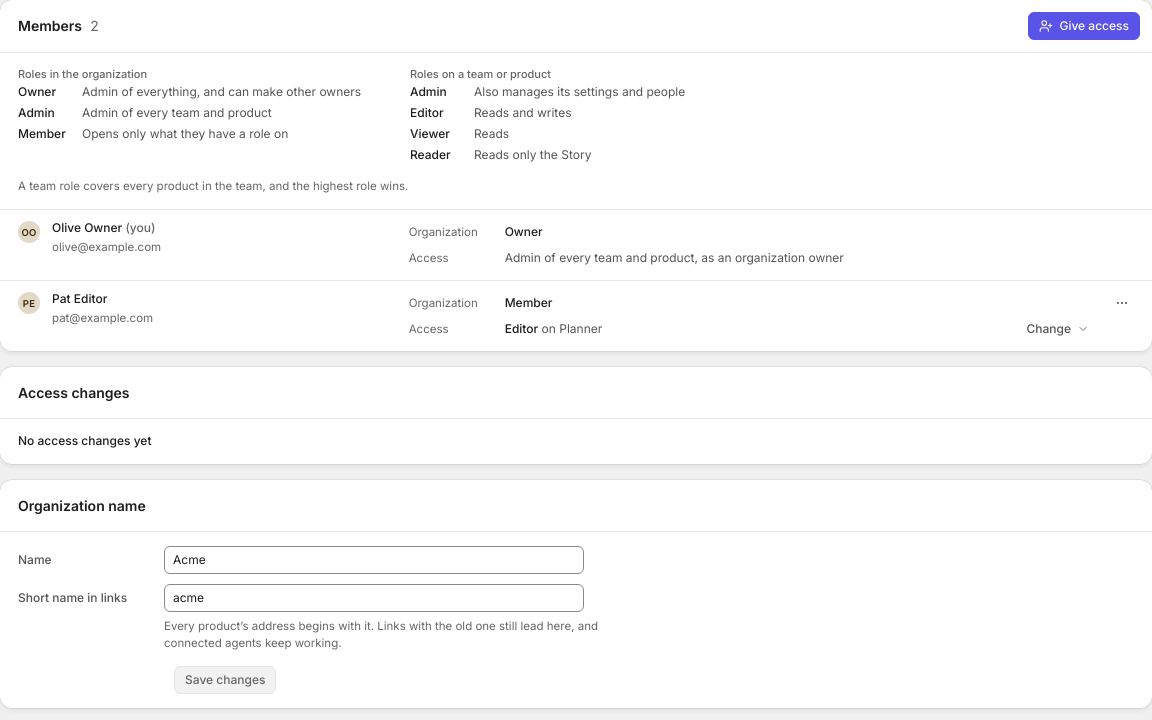
Test: the Members page › asks before removing someone's only role, offering to keep them as a member or to remove them, without saying both happen
The image size is (1152, 720).
Click the button "Change" at (1058, 329), box [1018,317,1098,341]
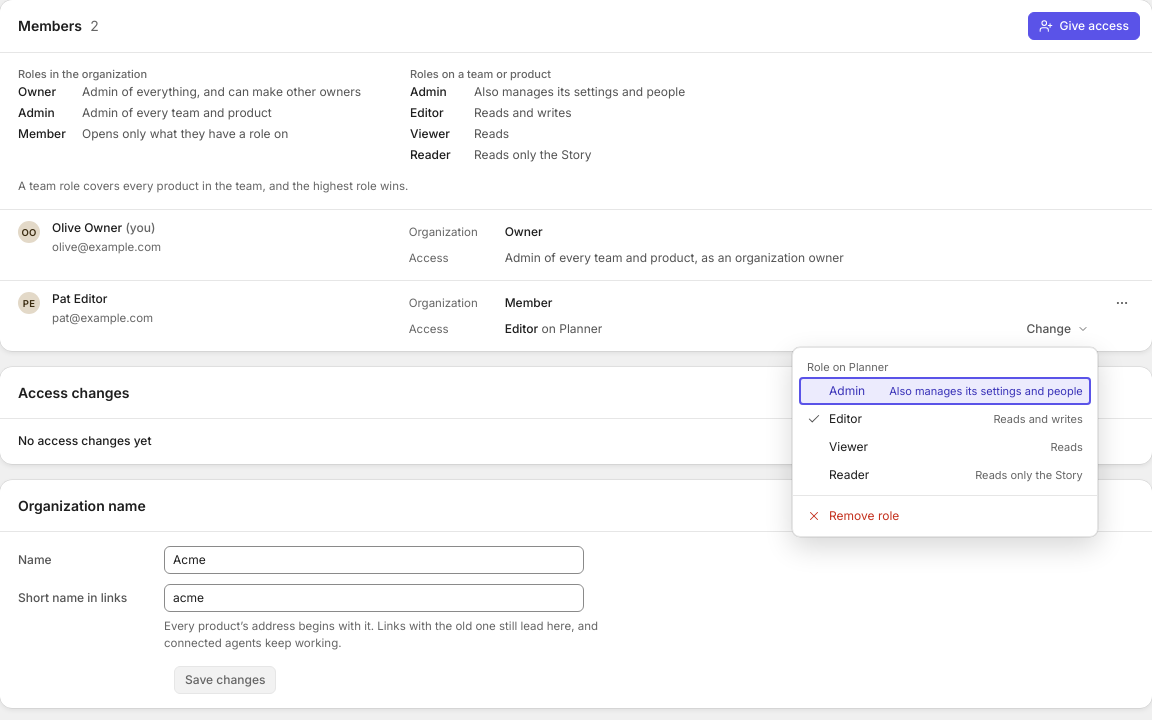
Click the menu item "Remove role" at (864, 515), box [799,502,1091,530]
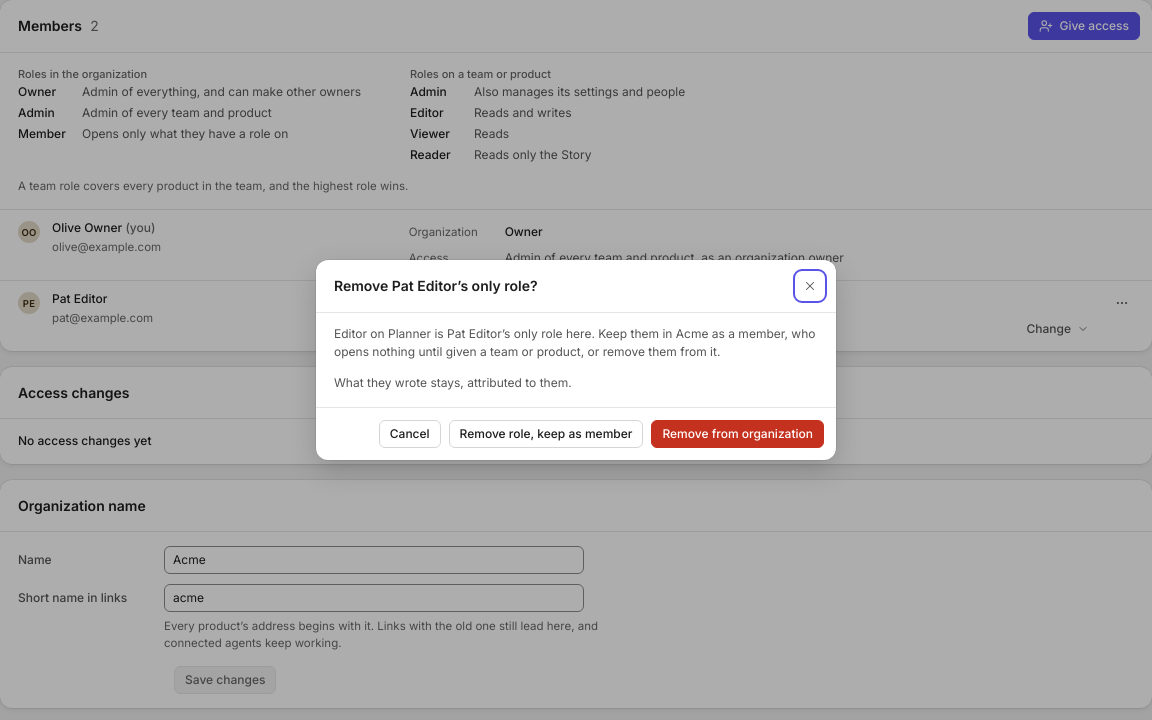
Now the dialog shows "Remove Pat Editor’s only role?", box [334,277,538,294]
Now the dialog shows "Editor on Planner is Pat Editor’s only role here. Keep them in Acme as a member", box [334,326,816,359]
